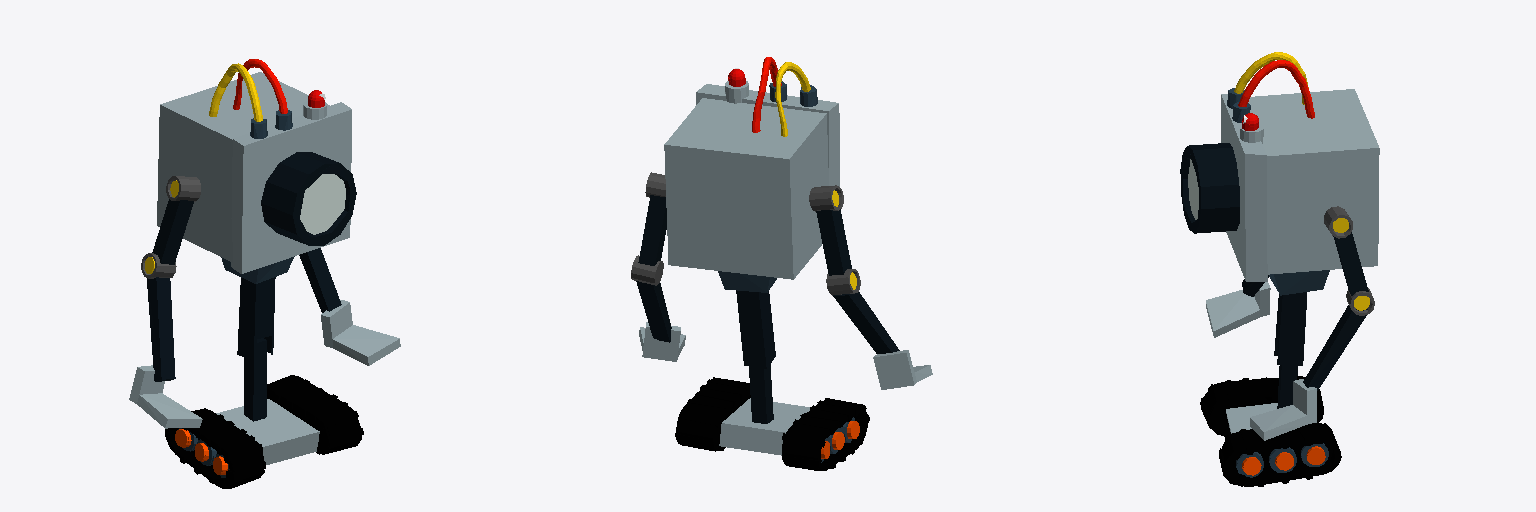
File: robot.obj
3 renders of one model, left to right at view 1: azimuth 30°, elevation 25°; view 2: azimuth 150°, elevation 25°; view 3: azimuth 270°, elevation 25°, orthographic.
Visible parts, largest first — view 1: group[number redacted]; view 2: group[number redacted]; view 3: group[number redacted].
Part boxes in pixels (left/top/right/bottom): group[number redacted]: left=129, top=59, right=400, bottom=488; group[number redacted]: left=631, top=57, right=932, bottom=470; group[number redacted]: left=1180, top=52, right=1379, bottom=486.
Bounding box in the file's own units: 72.62 × 99.77 × 45.79.